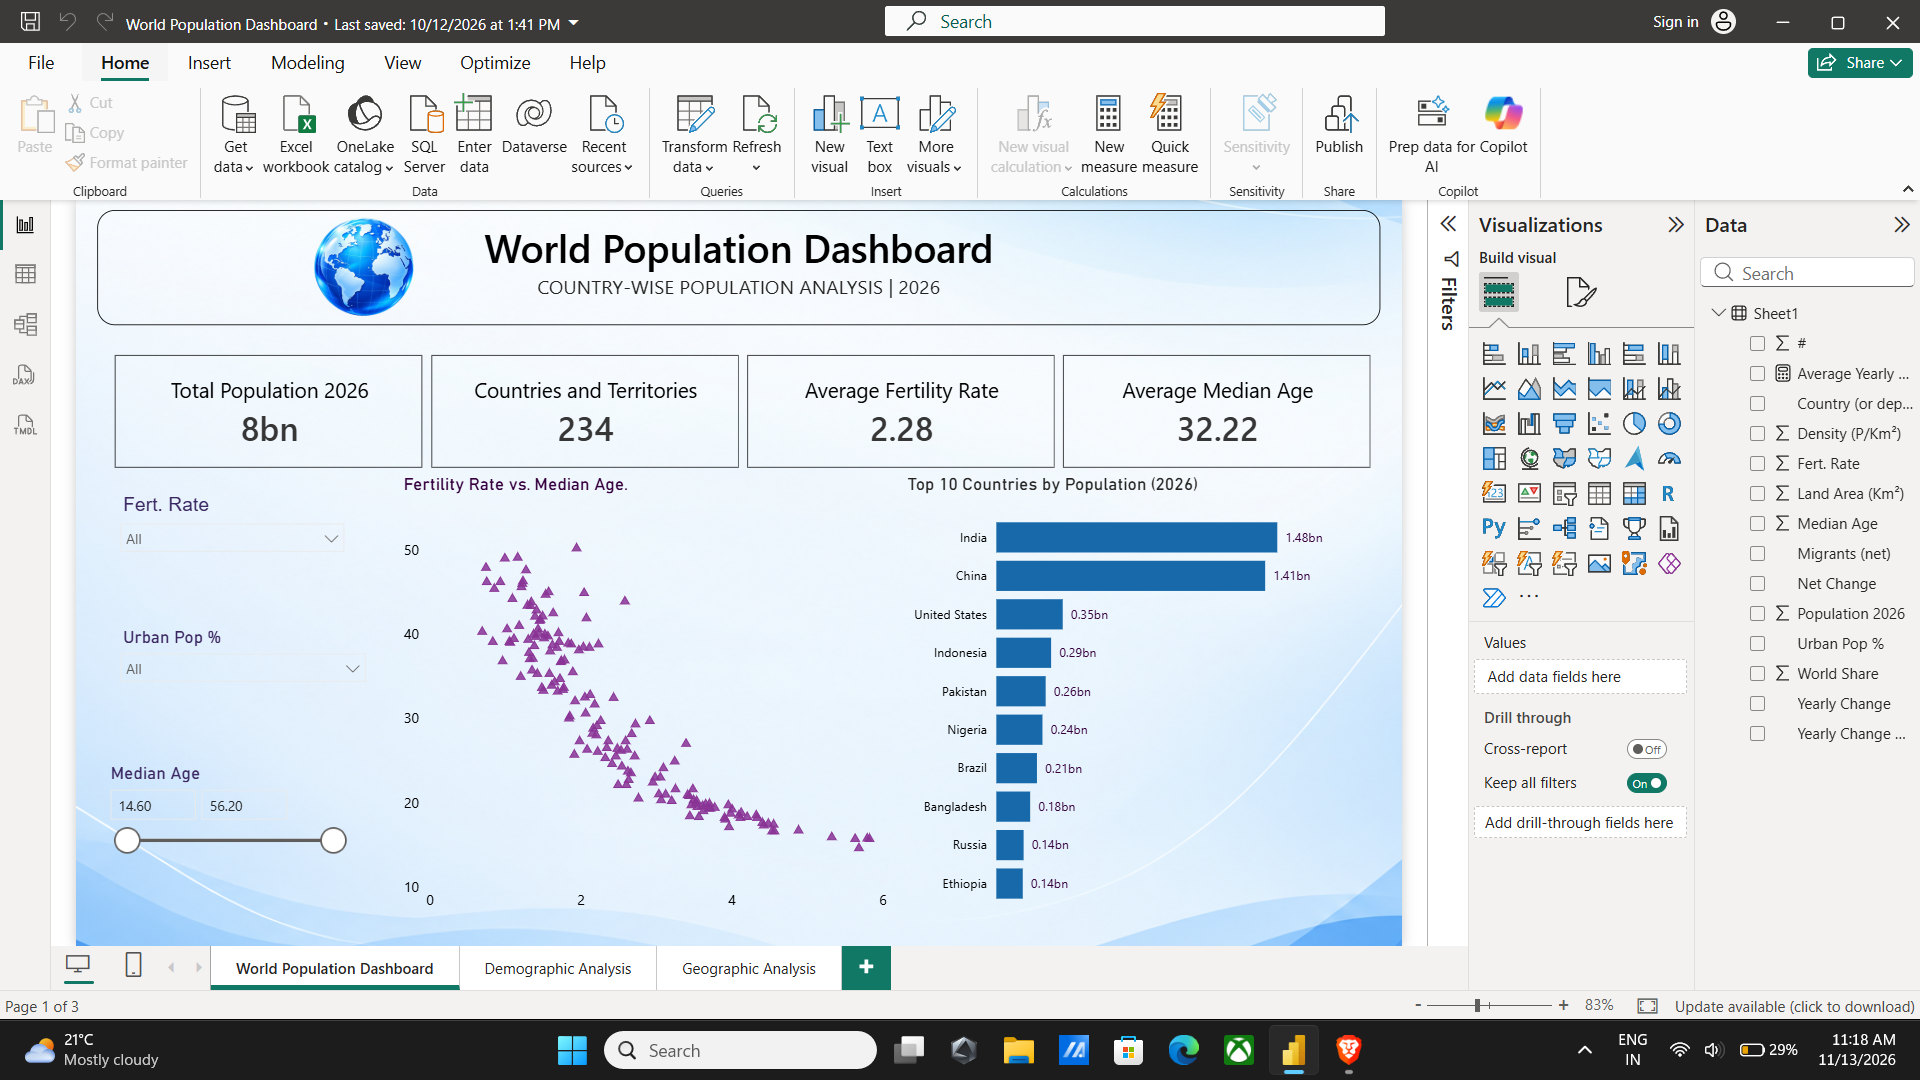

Layout of this report page (visuals, bound fields, positions):
{"tool":"powerbi","page":{"name":"World Population Dashboard","canvas":[1280,720],"ordinal":0},"visuals":[{"type":"textbox","box":[20,10,1238.8,111.2],"z":0},{"type":"cardVisual","fields":{"Data":["Sum(Sheet1.Population 2026)","Count(Sheet1.Country (or dependency))","Avg(Sheet1.Fert. Rate)","Avg(Sheet1.Median Age)"]},"box":[20,132.5,1248.8,143.8],"z":1000},{"type":"image","box":[177.3,9.7,200.3,111],"z":2000},{"type":"barChart","title":"Top 10 Countries by Population (2026)","fields":{"Category":["Sheet1.Country (or dependency)"],"Y":["Sum(Sheet1.Population 2026)"]},"box":[797.5,264.2,463.3,430.7],"z":3000},{"type":"scatterChart","title":"Fertility Rate vs. Median Age.","fields":{"X":["Sheet1.Fert. Rate"],"Y":["Avg(Sheet1.Median Age)"]},"box":[310.7,264.3,476.2,431],"z":4000},{"type":"slicer","fields":{"Values":["Sheet1.Fert. Rate"]},"box":[32.6,278.7,236.5,97.7],"z":5000},{"type":"slicer","fields":{"Values":["Sheet1.Median Age"]},"box":[20.5,538.1,248.5,165.3],"z":6000},{"type":"slicer","fields":{"Values":["Sheet1.Urban Pop %"]},"box":[32.6,406.6,257,109.8],"z":7000}]}

Visuals, with their boxes on the page's 1280x720 design canvas (x1, y1, x2, y2). These are canvas units, not pixel positions in the 1920x1080 screenshot, which may show the page scaled, cropped or inside an application window:
textbox: <bbox>20, 10, 1259, 121</bbox>
cardVisual - Sum(Sheet1.Population 2026) x Count(Sheet1.Country (or dependency)): <bbox>20, 132, 1269, 276</bbox>
image: <bbox>177, 10, 378, 121</bbox>
"Top 10 Countries by Population (2026)" barChart: <bbox>798, 264, 1261, 695</bbox>
"Fertility Rate vs. Median Age." scatterChart: <bbox>311, 264, 787, 695</bbox>
slicer - Sheet1.Fert. Rate: <bbox>33, 279, 269, 376</bbox>
slicer - Sheet1.Median Age: <bbox>20, 538, 269, 703</bbox>
slicer - Sheet1.Urban Pop %: <bbox>33, 407, 290, 516</bbox>
